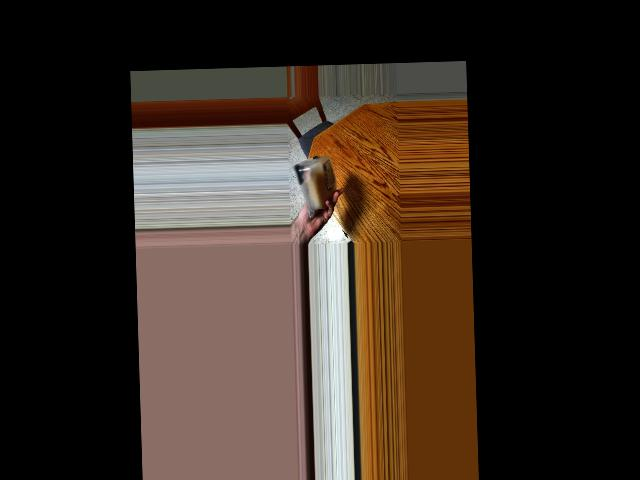cheese: (294, 153, 339, 211)
